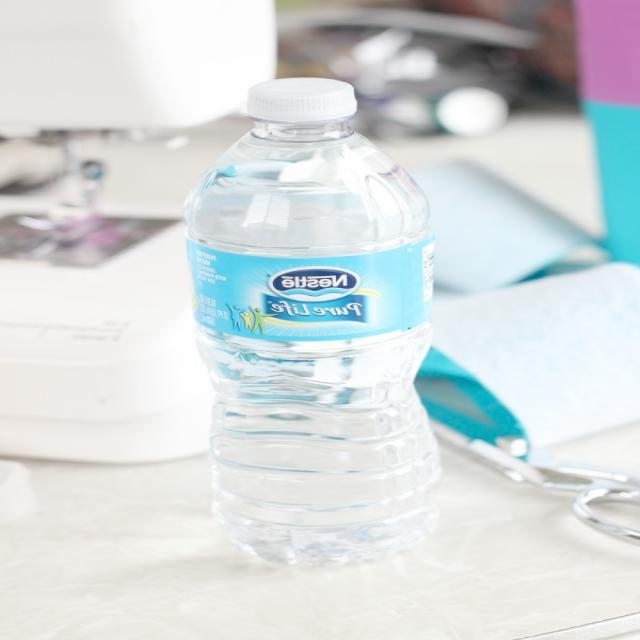cap: (239, 75, 361, 123)
label: (180, 236, 442, 348)
not-crumbled: (178, 66, 444, 578)
